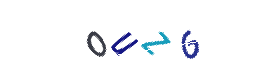0: (96, 0, 176, 80)
G: (116, 0, 196, 80)
U: (99, 0, 179, 80)
Z: (101, 0, 181, 80)
